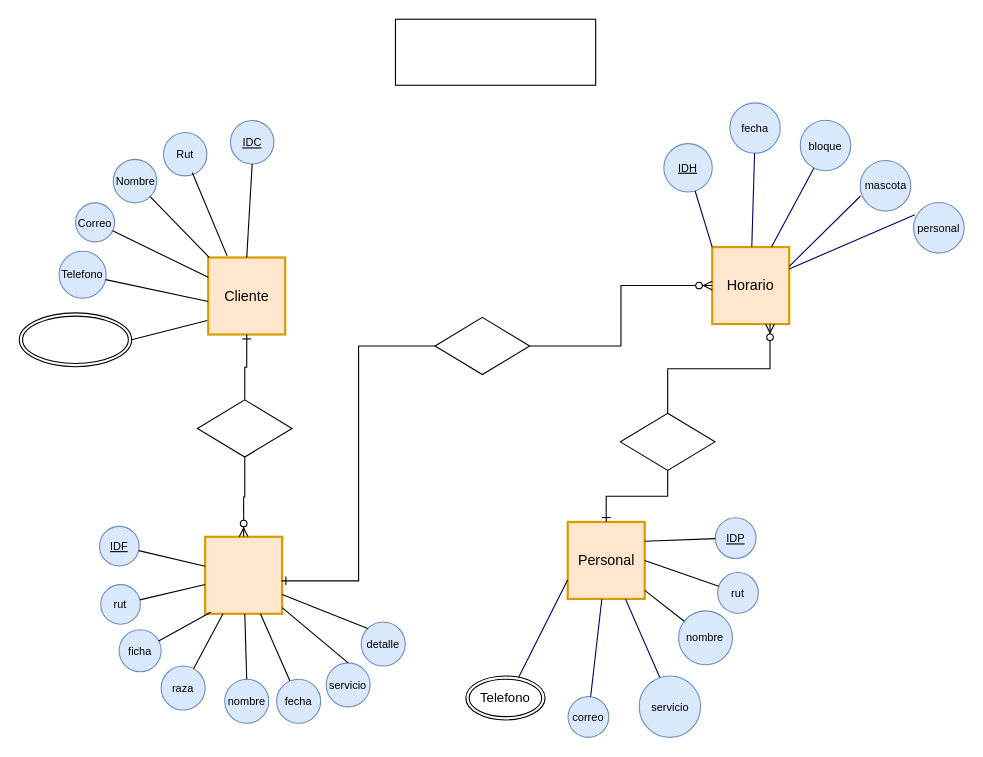
Some shapes in this 983 by 757 pixel diagram are drawn without their labels. The shapes that lost their labels are listed below. From the top down, each one's centre as x and y in pixels, then its label:
the point at 495,51: Entity Relationship
the point at 75,339: numero_ficha
the point at 482,345: reserva
the point at 244,428: tiene
the point at 667,441: ingresa
the point at 243,574: Ficha mascota
